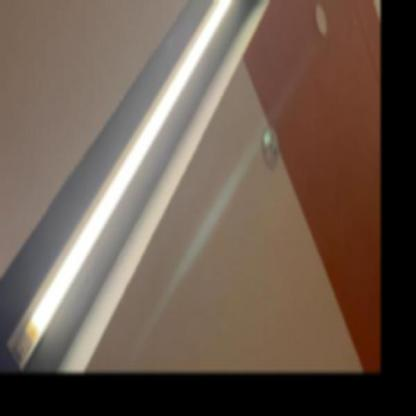light_on: (2, 0, 260, 373)
